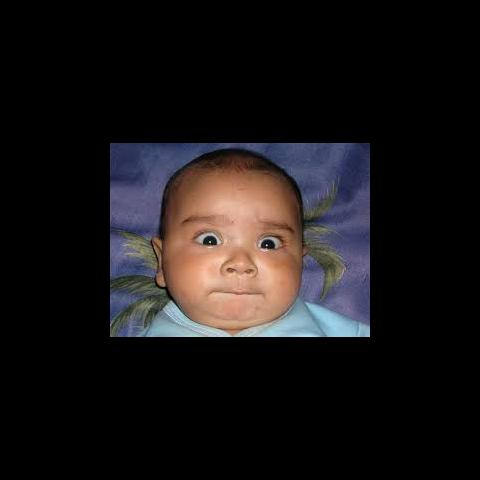opened: (186, 220, 290, 262)
